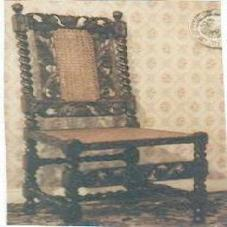chair: (3, 0, 211, 221)
